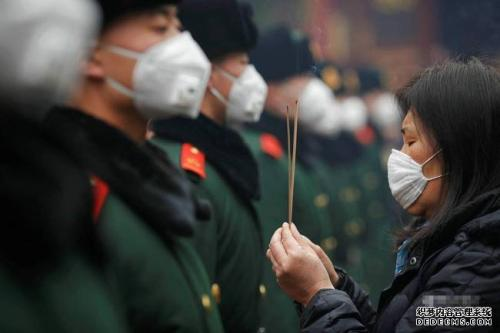yes_mask: (386, 57, 499, 219), (92, 1, 212, 126), (184, 1, 270, 126), (257, 24, 336, 128), (317, 59, 368, 133), (361, 65, 404, 135)
